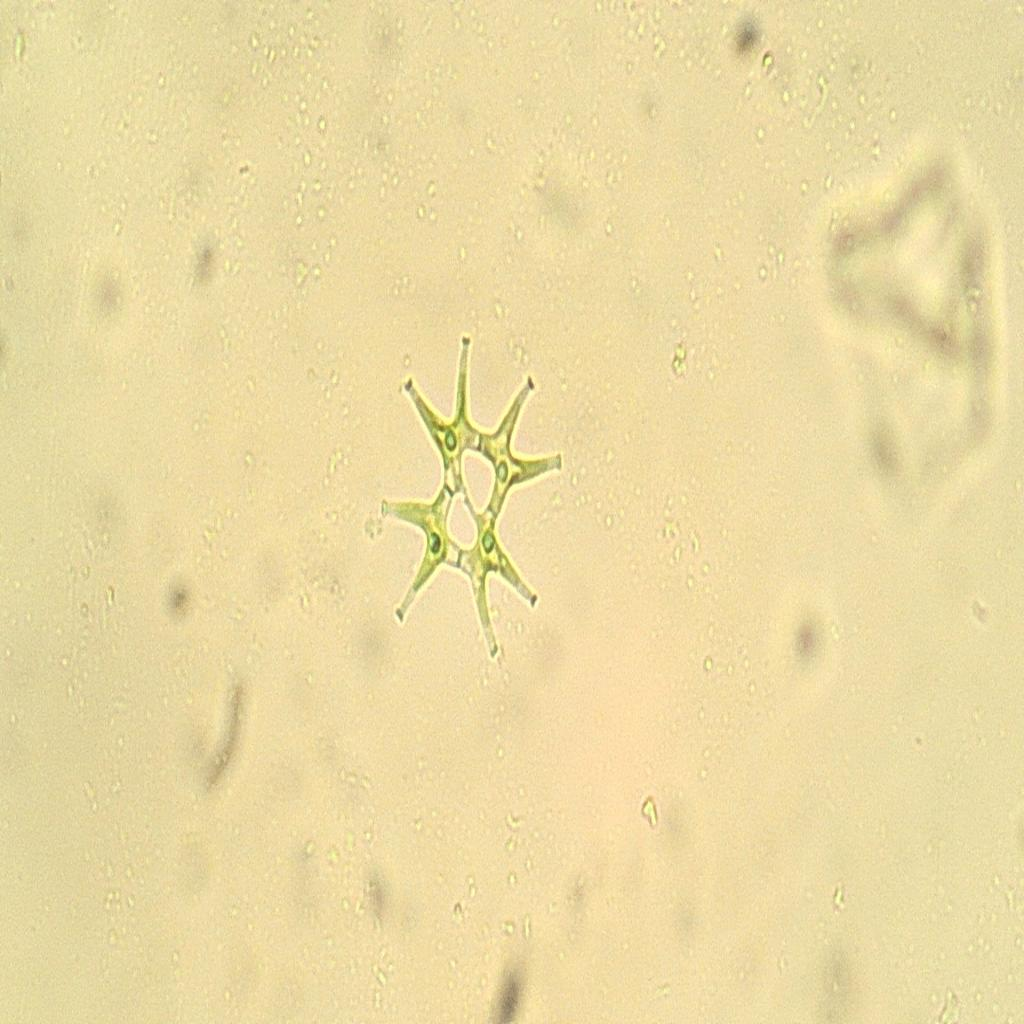Pediastrum_CF: (369, 320, 581, 684)
